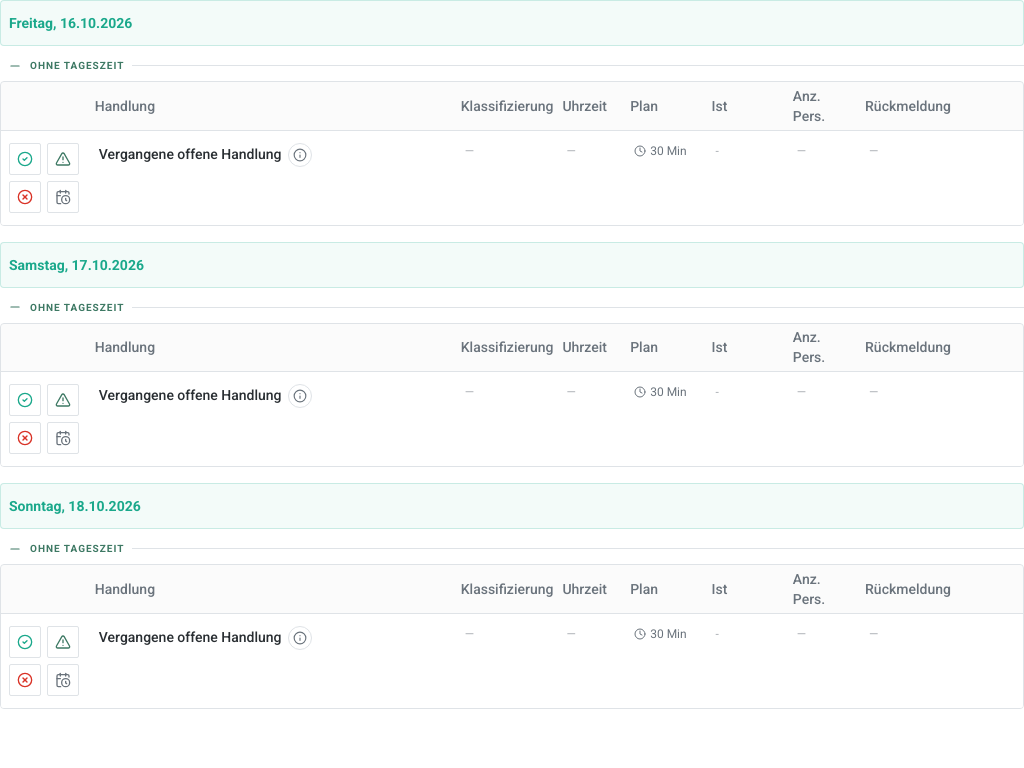
Test case: AssessmentOutline confirmation actions › opens the confirmation dialog for planned unconfirmed actions in the past
Click the 1st button named "Erledigt wie geplant". click: [25, 158]
box: [9,142,41,174]
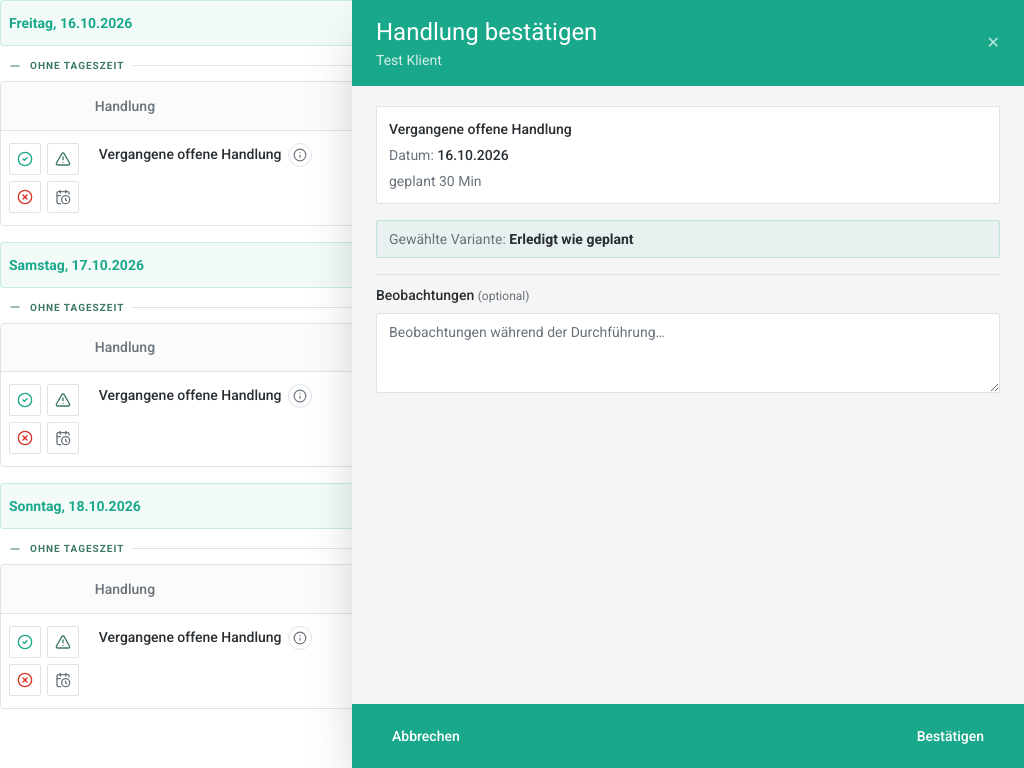
Expected: the 2nd text "Vergangene offene Handlung" is shown, [99,145,282,161]
Expected: the dialog is shown
